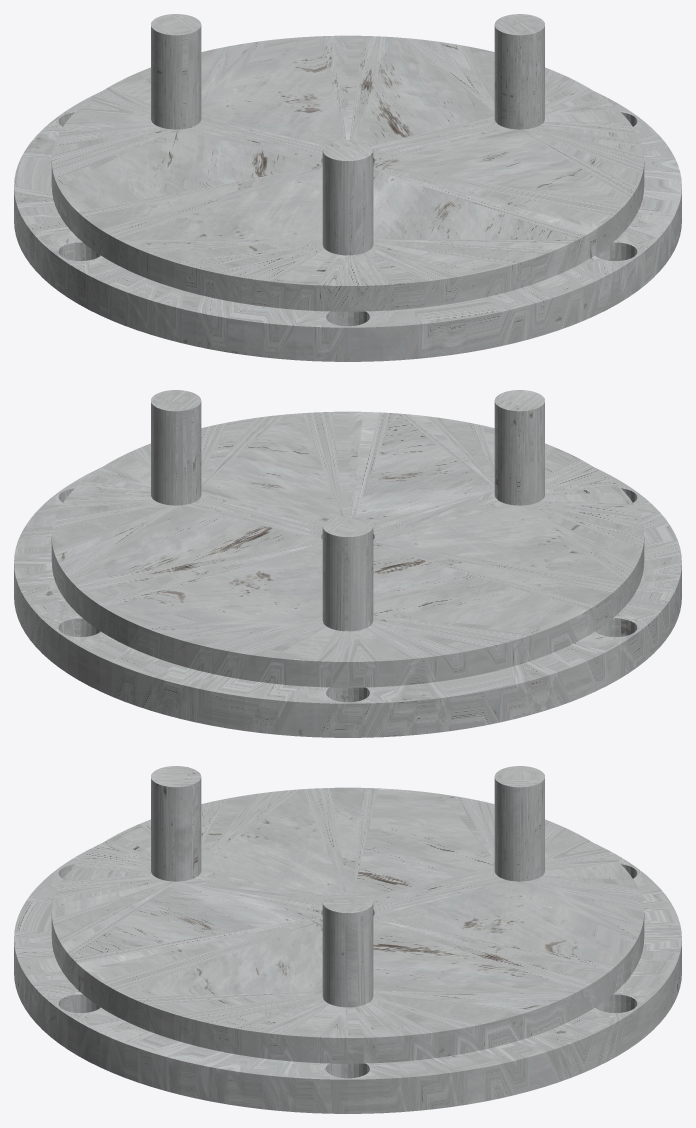
Rendered from carrier.glb.obj.
3 views of the same model, one above another, from view 1: azimuth 30°, elevation 25°; view 2: azimuth 150°, elevation 25°; view 3: azimuth 270°, elevation 25° (orthographic).
Visible parts, largest first — view 1: OpenSCAD_Model; view 2: OpenSCAD_Model; view 3: OpenSCAD_Model.
Part boxes in pixels (x1,y1,x2,y2): OpenSCAD_Model: (14, 14, 681, 361); OpenSCAD_Model: (14, 390, 681, 737); OpenSCAD_Model: (14, 766, 681, 1113).
Size of the model in its own units: 106 by 27 by 106.
Materials: 1 (1 with a texture image).
